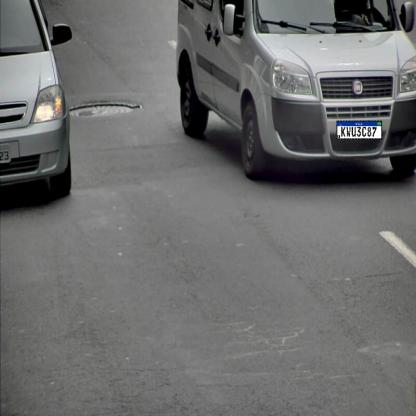PlacaM: (336, 121, 382, 139)
